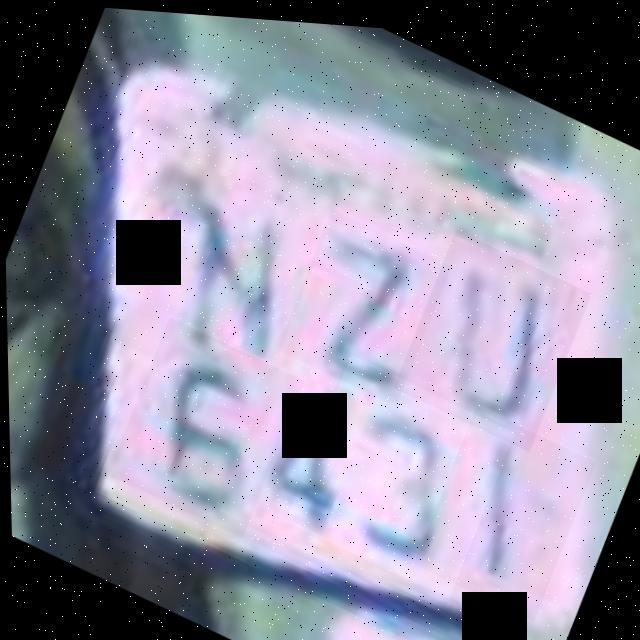1: (408, 394, 596, 616)
3: (279, 345, 515, 596)
4: (201, 334, 413, 570)
6: (102, 311, 305, 538)
N: (130, 155, 331, 376)
U: (388, 219, 592, 448)
Z: (272, 201, 453, 403)
